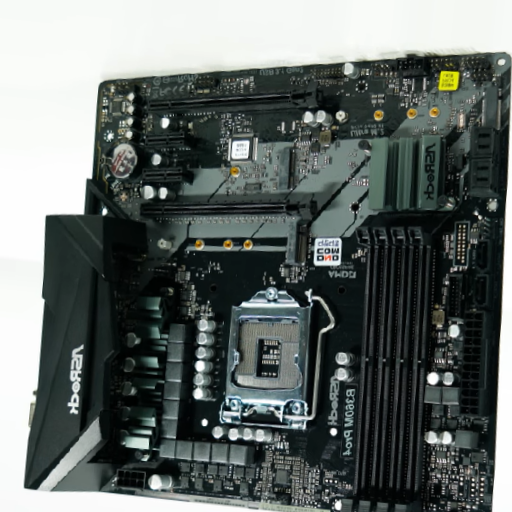CPU: (218, 290, 312, 430)
GPU: (147, 80, 322, 112), (139, 191, 316, 219)
MOTHERBOARD: (83, 51, 510, 512)
RAM: (339, 224, 434, 512)
SSD: (285, 218, 308, 273), (276, 147, 298, 191)
